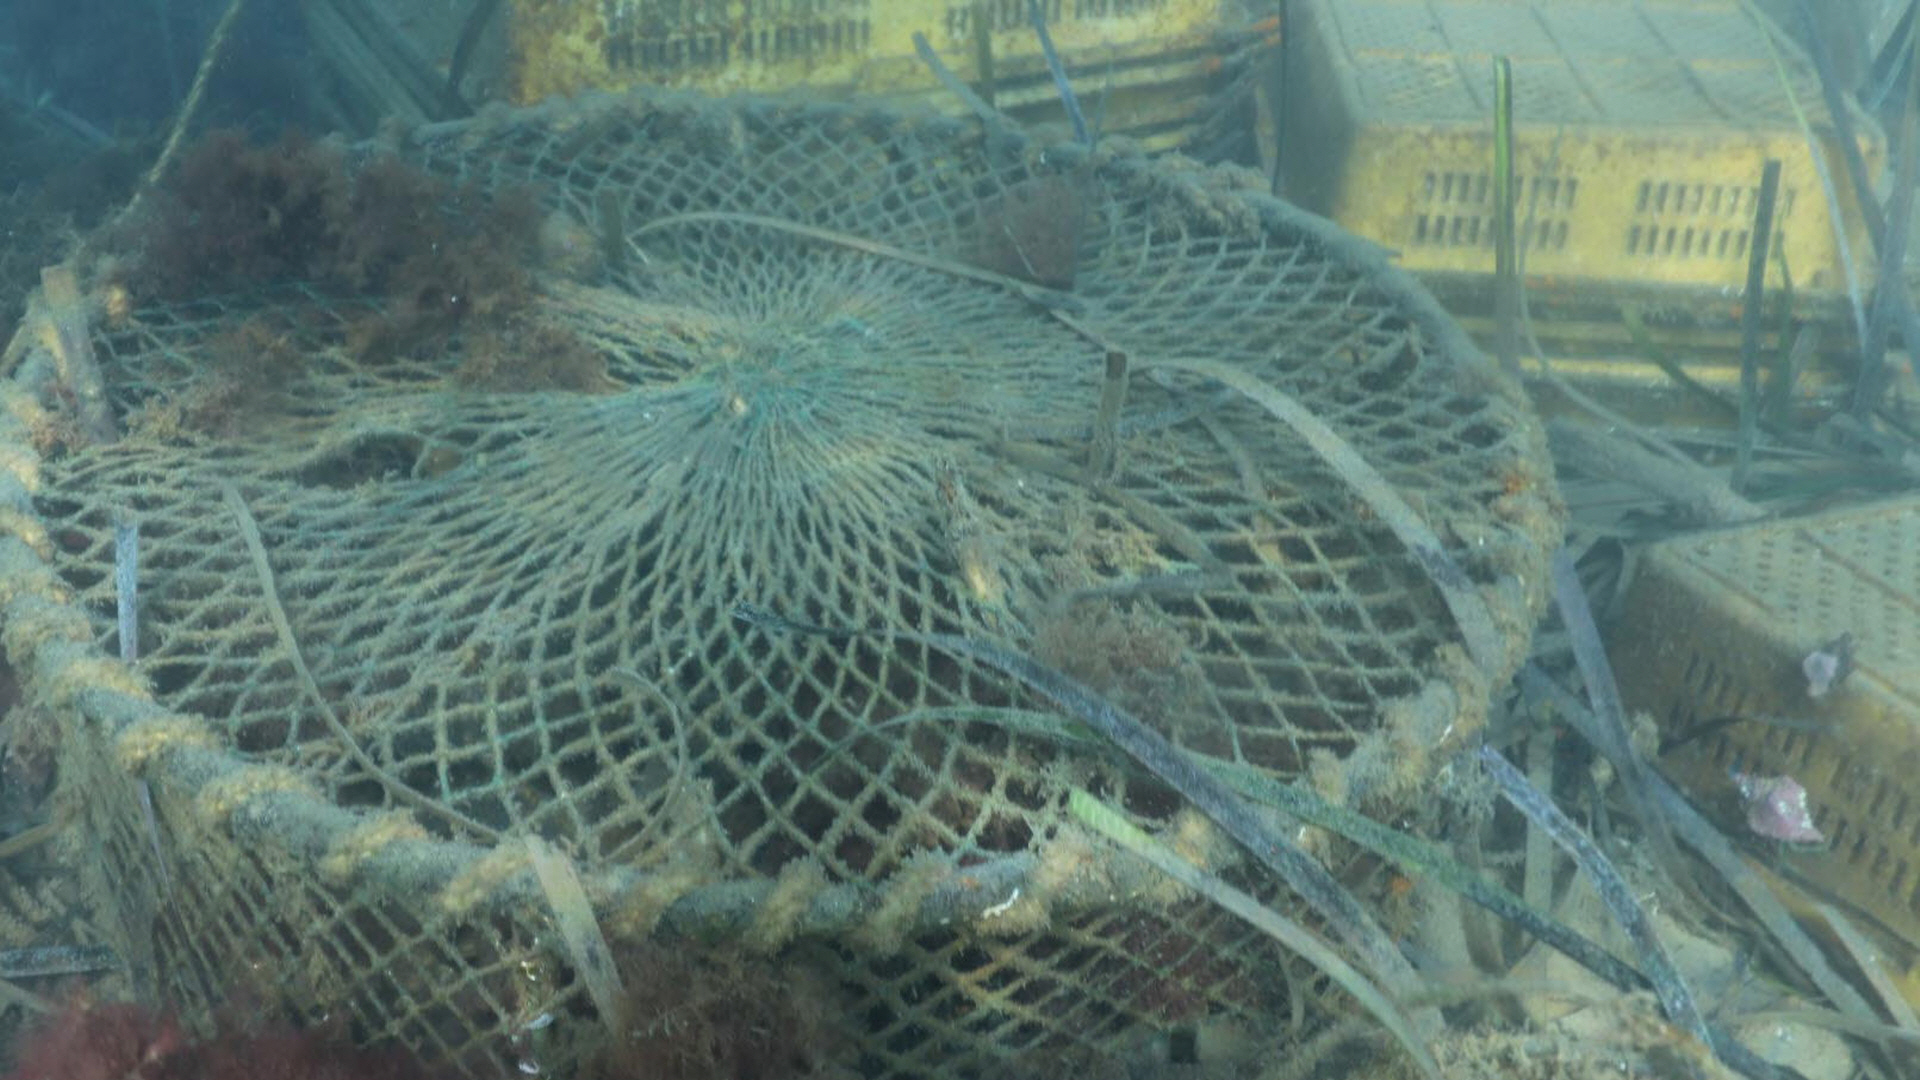circular fish trap: (0, 82, 1561, 1080)
rope: (111, 0, 233, 224)
